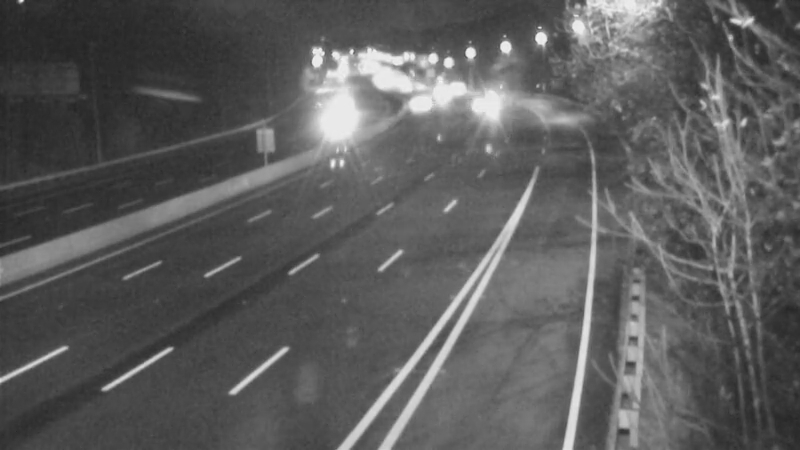vehicle: (391, 81, 441, 131), (450, 81, 500, 131), (309, 99, 359, 149)
